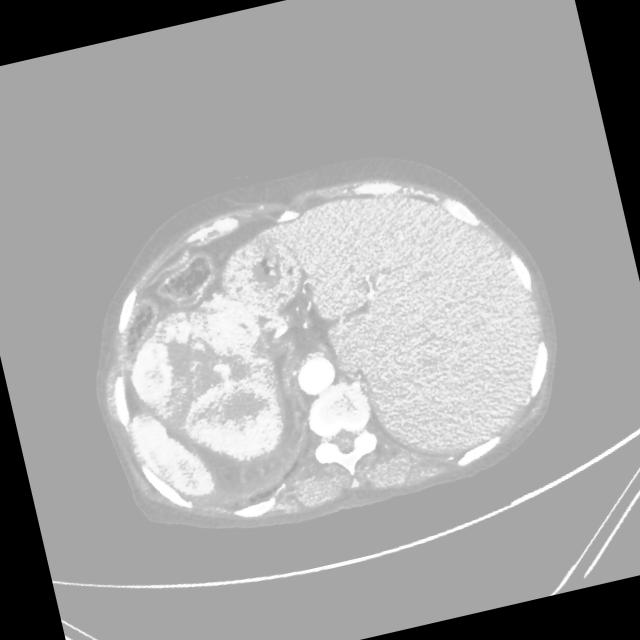TUMOR: (87, 287, 304, 535)
